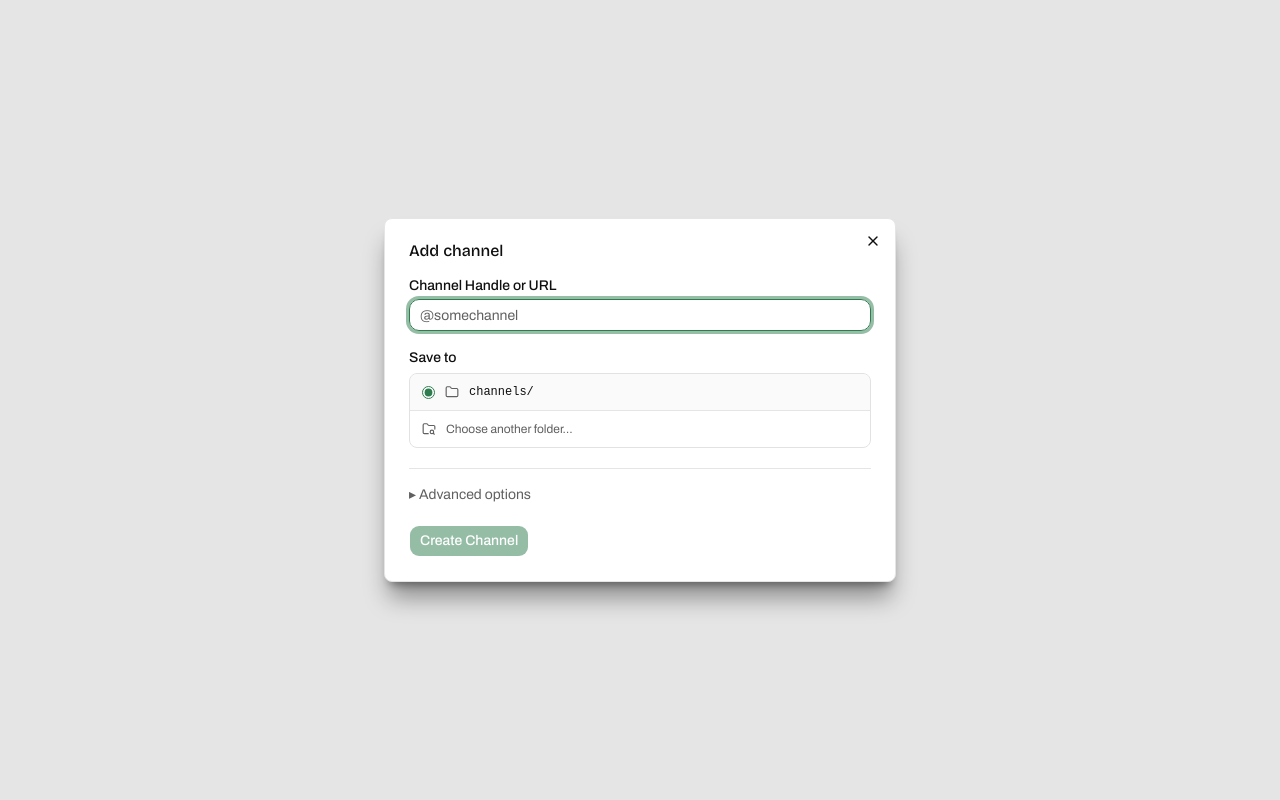
Test case: AddChannelDialog › updates the stated limit as the video limit field changes
In the field labelled "Channel Handle or URL": point(640, 315) x1=409 y1=299 x2=871 y2=331, type "@chan"
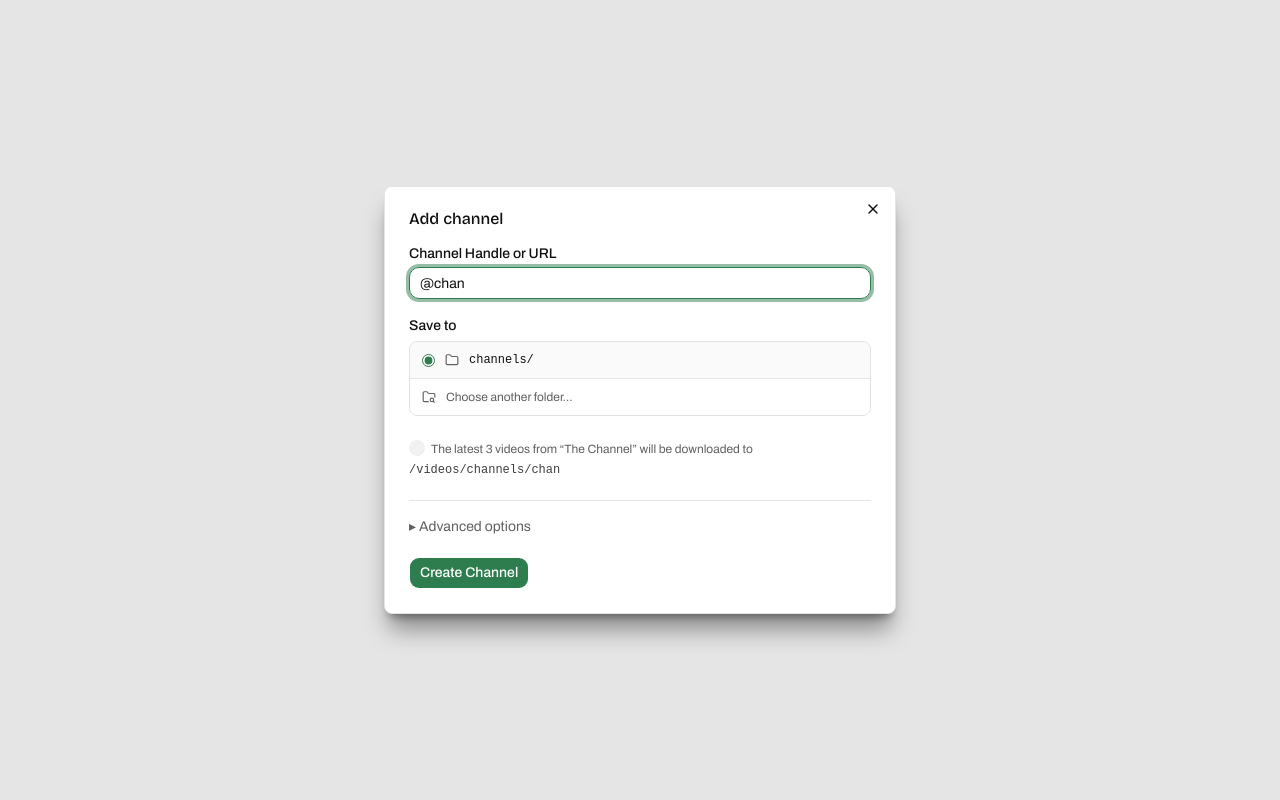
Now the text "The latest 3 videos" is shown, box x1=431 y1=442 x2=753 y2=456
Click the button "▸ Advanced options": point(470, 527) x1=409 y1=517 x2=531 y2=537
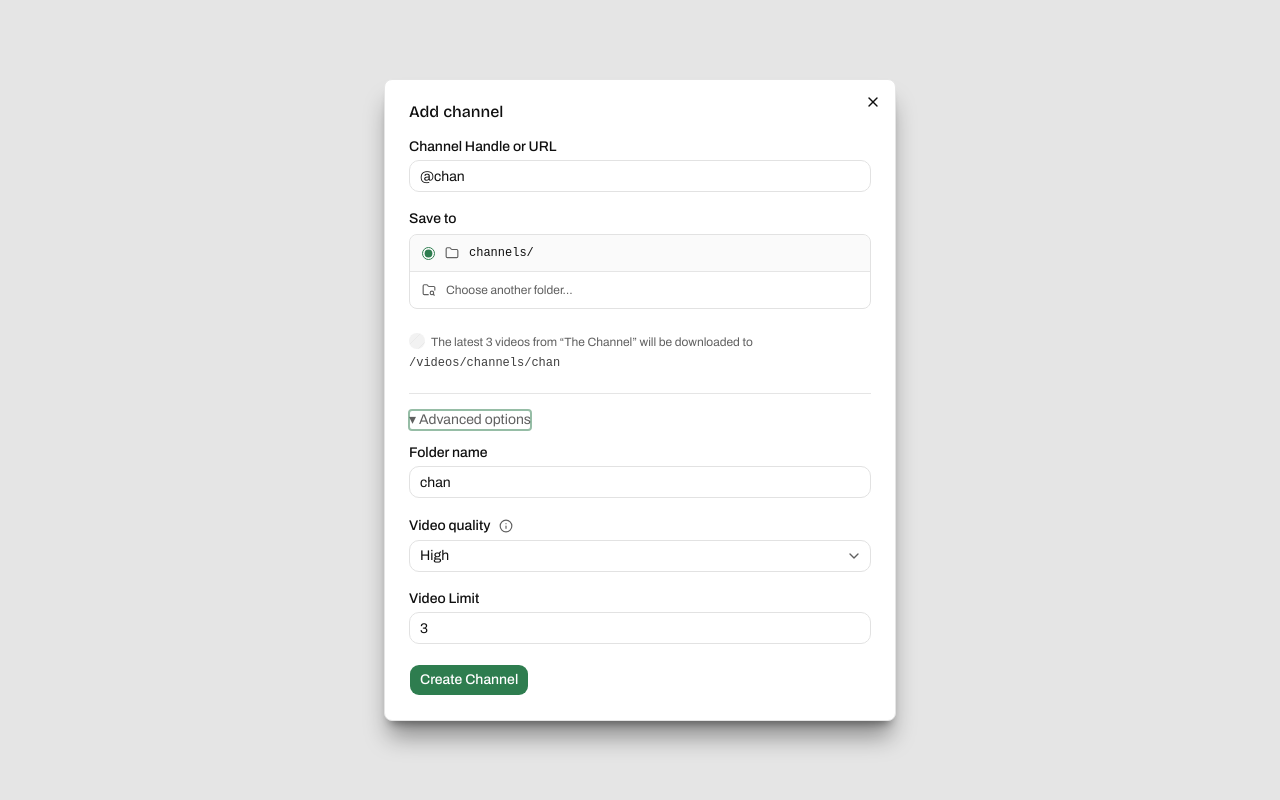
Clear the number field labelled "Video Limit": point(640, 628) x1=409 y1=612 x2=871 y2=644
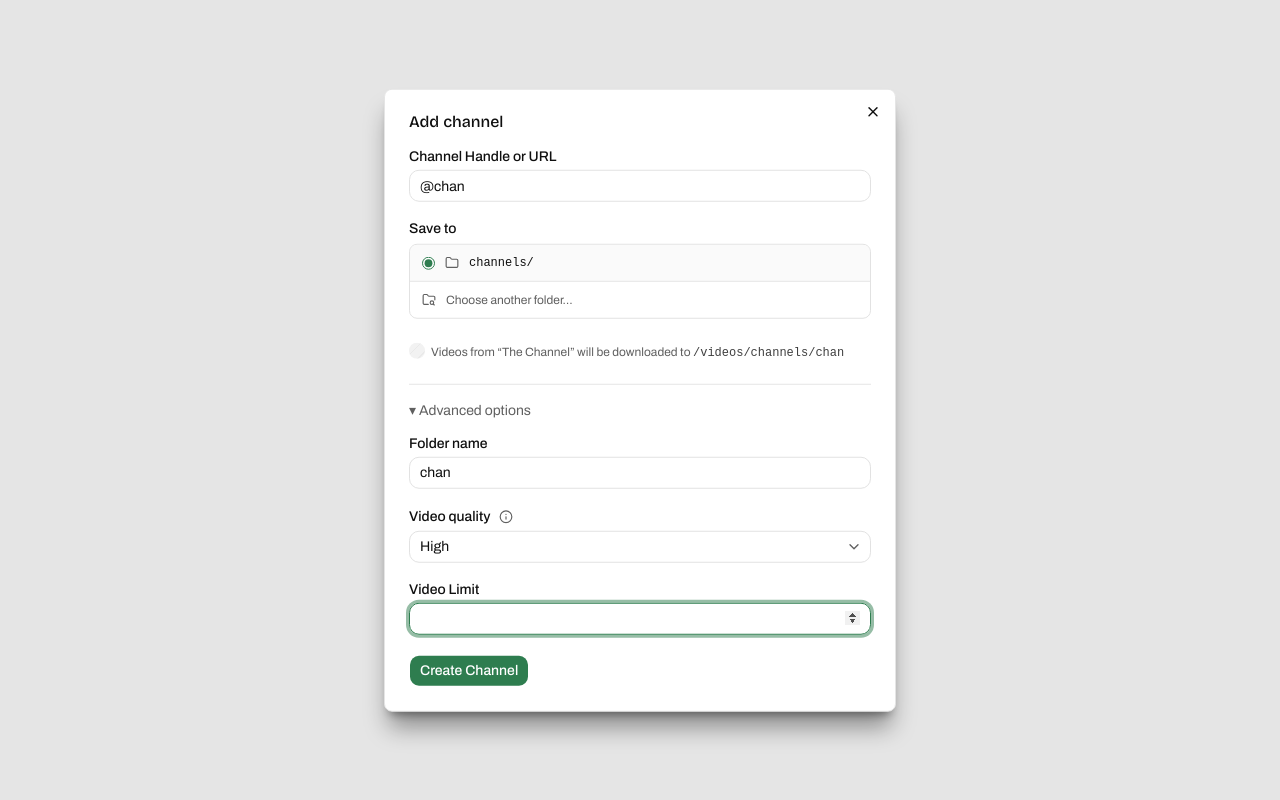
In the number field labelled "Video Limit": point(640, 618) x1=409 y1=602 x2=871 y2=634, type "1"
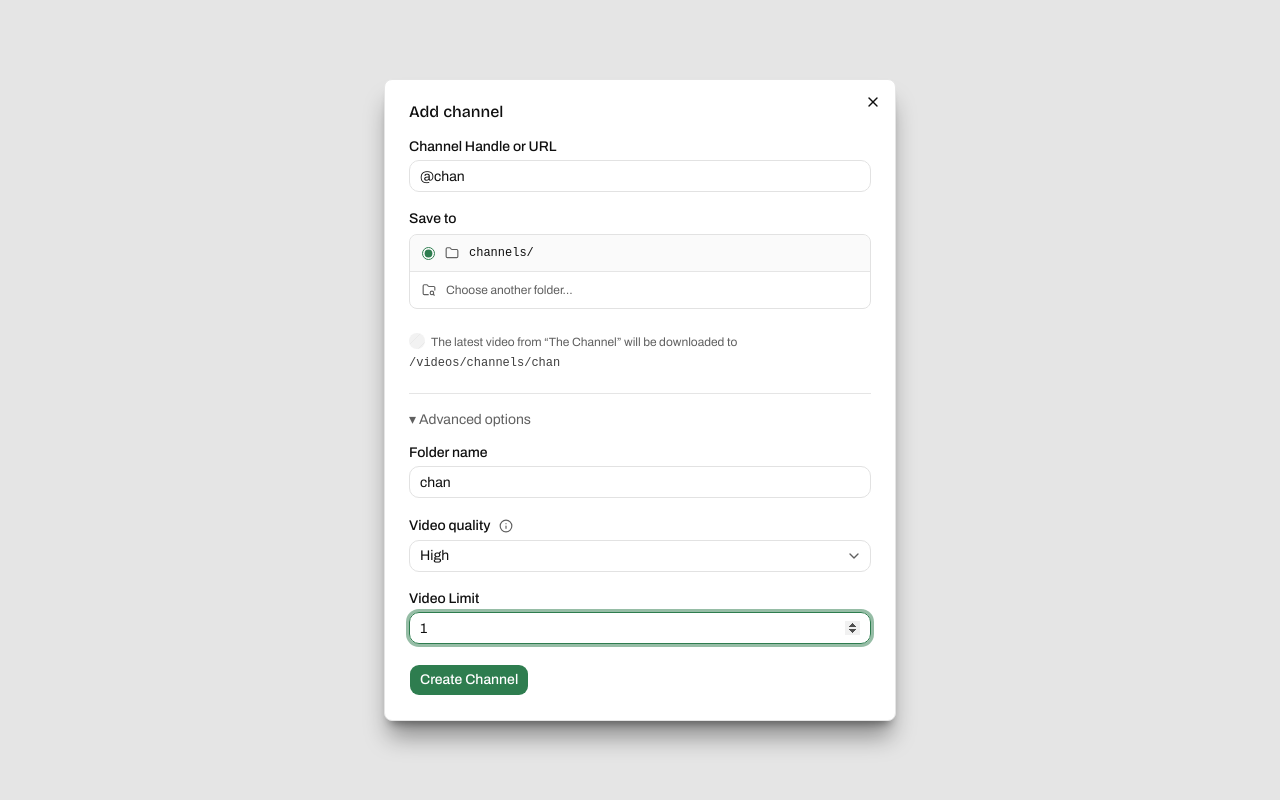
Now the text "The latest video from “The Channel” will be downloaded to" is shown, box x1=431 y1=335 x2=737 y2=349
